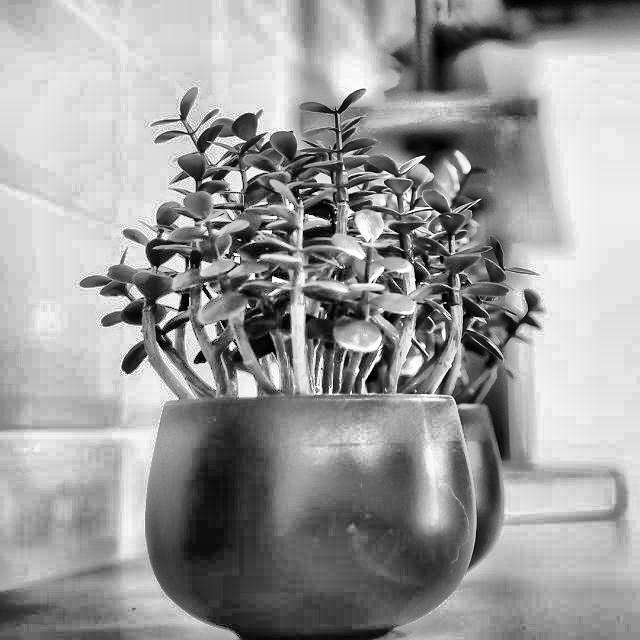plants: (91, 84, 540, 639)
